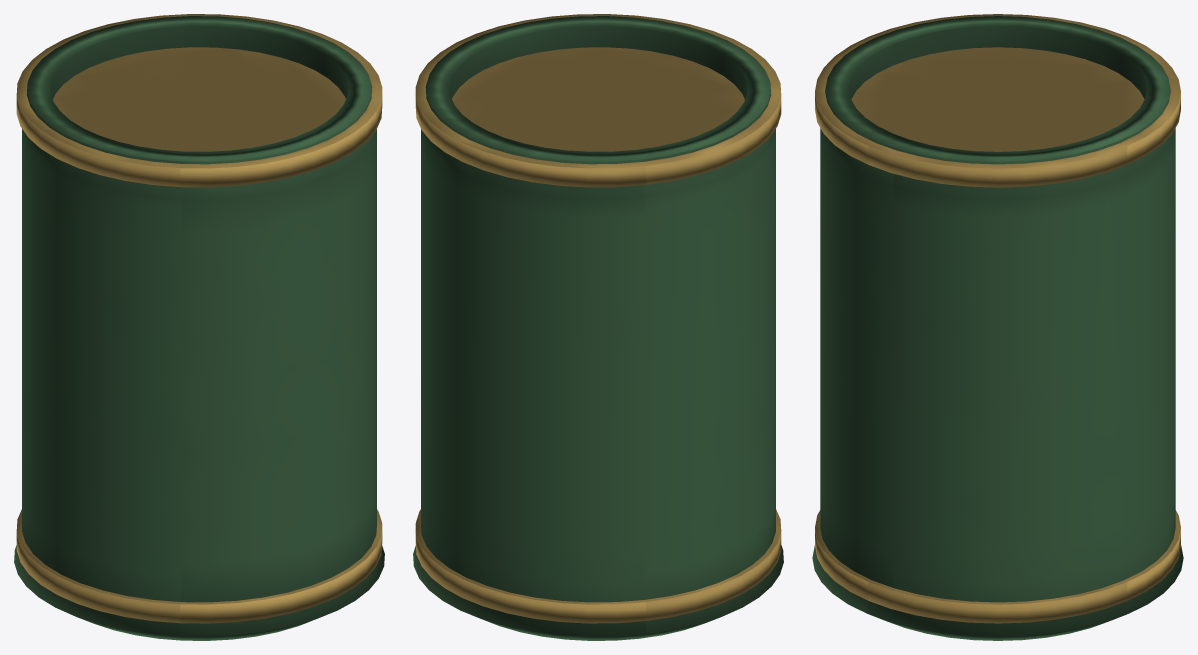
Rendered from holder-02.gltf.
The picture shows the model from 3 angles, left to right: view 1: azimuth 30°, elevation 25°; view 2: azimuth 150°, elevation 25°; view 3: azimuth 270°, elevation 25°; orthographic projection.
Parts seen in each view (by area): view 1: holder-02; view 2: holder-02; view 3: holder-02.
Part boxes in pixels (x1,y1,x2,y2): holder-02: [14, 14, 384, 640]; holder-02: [413, 14, 783, 640]; holder-02: [812, 14, 1183, 640].
Size of the model in its own units: 0.142 by 0.205 by 0.142.
Materials: 2 (2 with a texture image).
